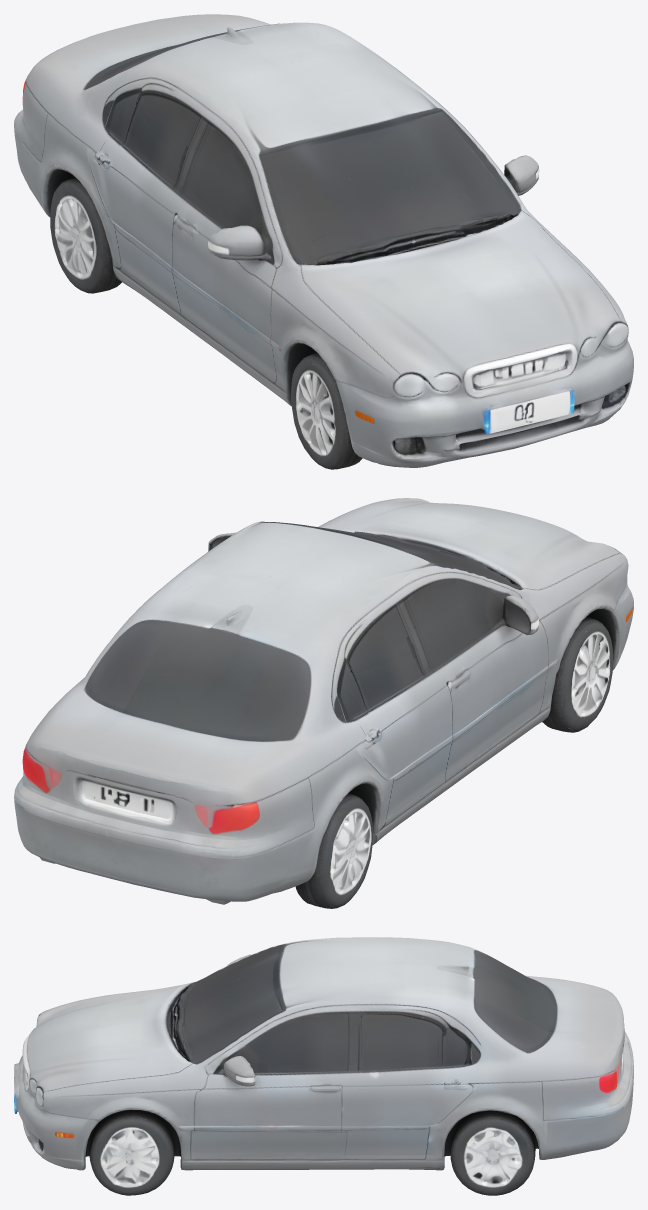
The model's file is Sedan.glb.
3 views of the same model, one above another, from view 1: azimuth 30°, elevation 25°; view 2: azimuth 150°, elevation 25°; view 3: azimuth 270°, elevation 25° (orthographic). The views are drawn at different scales.
Visible parts, largest first — view 1: Mesh; view 2: Mesh; view 3: Mesh.
Boxes of the visible parts, bbox=[...] form: Mesh: bbox=[14, 14, 633, 469]; Mesh: bbox=[14, 498, 633, 908]; Mesh: bbox=[14, 937, 633, 1195].
Size of the model in its own units: 0.8695 by 0.6209 by 1.91.
1 material, 1 textured.
